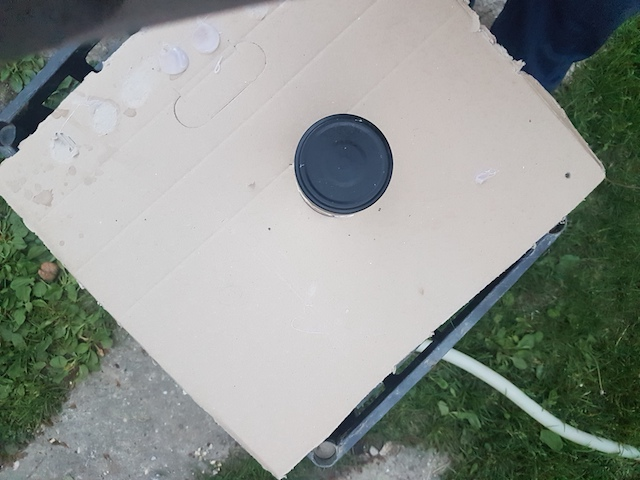recipient: (293, 113, 396, 213)
